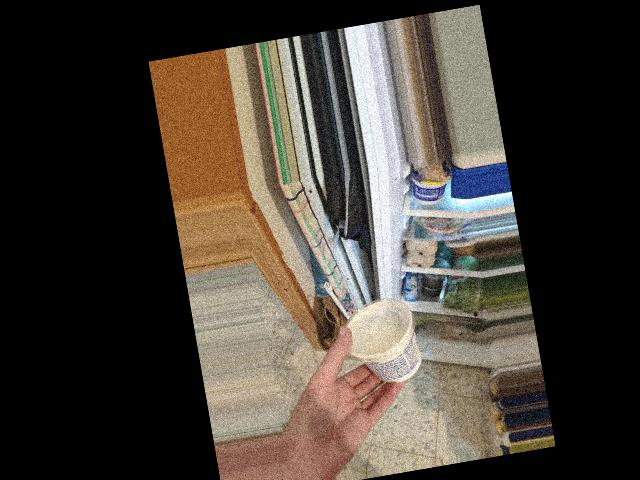cotage: (340, 295, 418, 391)
